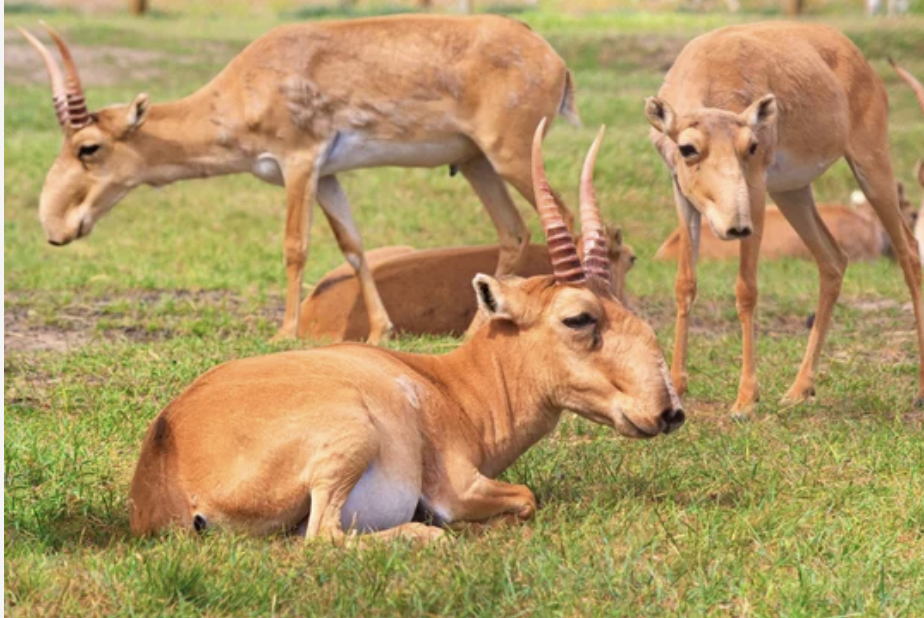saiga: (122, 122, 681, 575)
